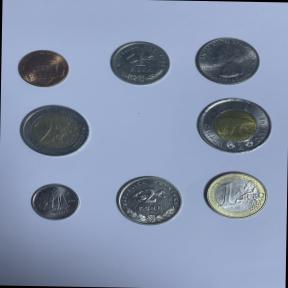coin: (191, 96, 277, 156), (16, 102, 94, 160), (111, 173, 187, 229), (198, 168, 274, 222), (191, 34, 264, 86), (15, 47, 73, 89), (29, 181, 84, 223)
